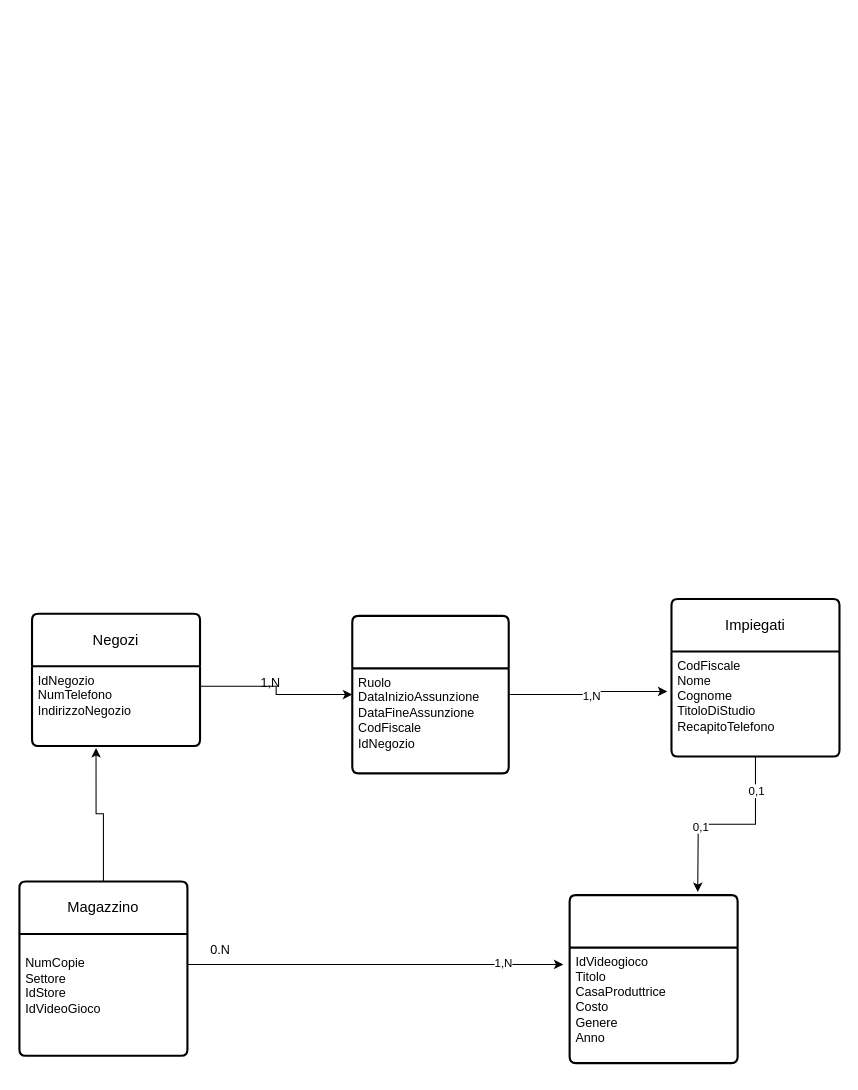
The diagram is 858 pixels wide and 1090 high, and some of its shapes have lost their labels. The shapes that lost their labels are listed below. From the top down, each one's box as (x1, y1, x2, y2) in pixels, then its label:
(351, 614, 509, 774): ImpiegatiNegozi
(568, 894, 738, 1064): Videogiochi
